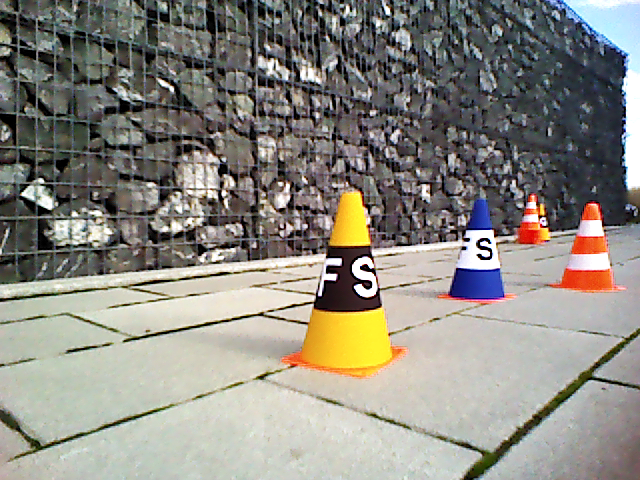bluecone: (450, 197, 505, 300)
orangeconesmall: (562, 202, 614, 289)
yellowcone: (301, 190, 394, 365)
